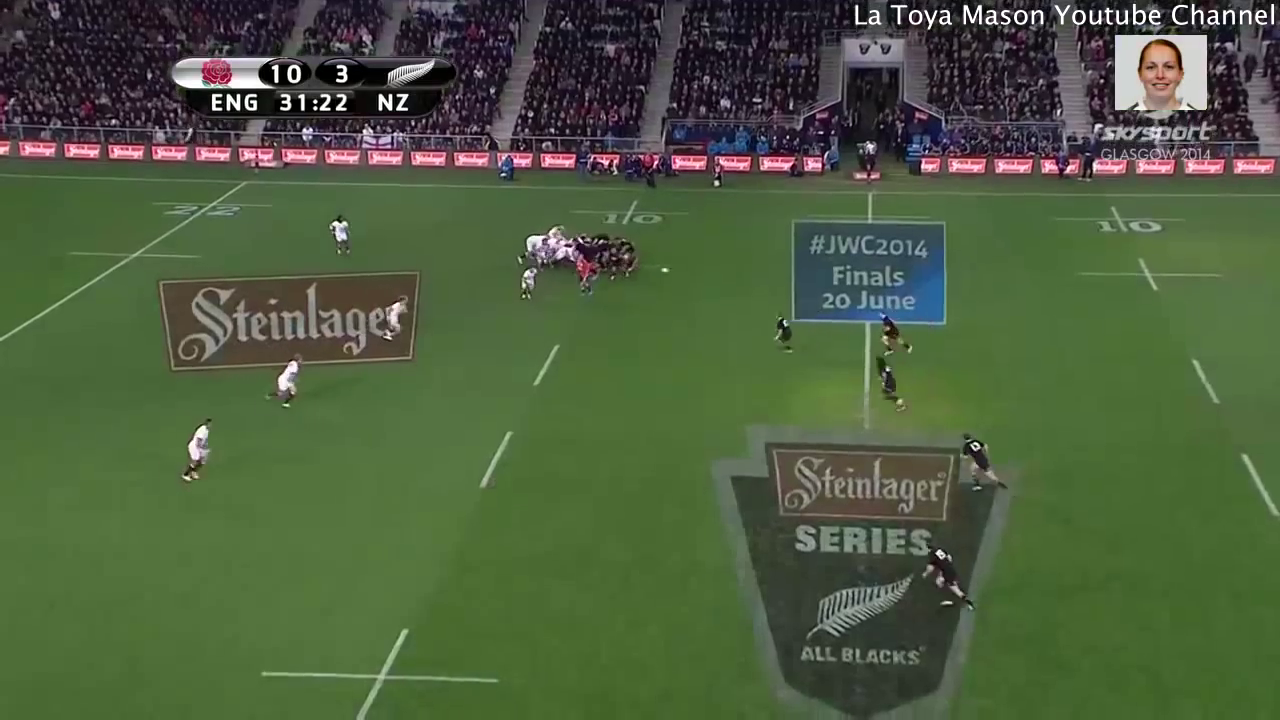10_metre: (251, 623, 501, 720), (1072, 252, 1227, 294), (1048, 204, 1194, 241), (565, 195, 689, 231)
ball: (658, 264, 671, 279)
player: (917, 542, 977, 616), (954, 429, 1015, 492), (176, 414, 215, 485), (261, 353, 309, 410), (872, 354, 909, 414), (873, 308, 917, 358), (376, 293, 410, 342), (765, 308, 796, 357), (328, 214, 354, 258), (518, 263, 541, 304), (579, 259, 602, 297), (516, 234, 544, 263)
scrum: (510, 220, 643, 276)
